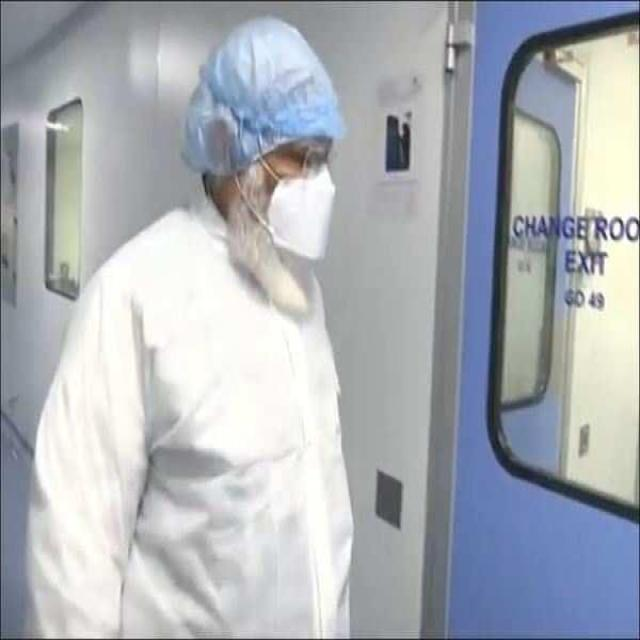Coverall: (105, 38, 341, 640)
Goggles: (241, 106, 348, 178)
Mask: (249, 166, 336, 274)
